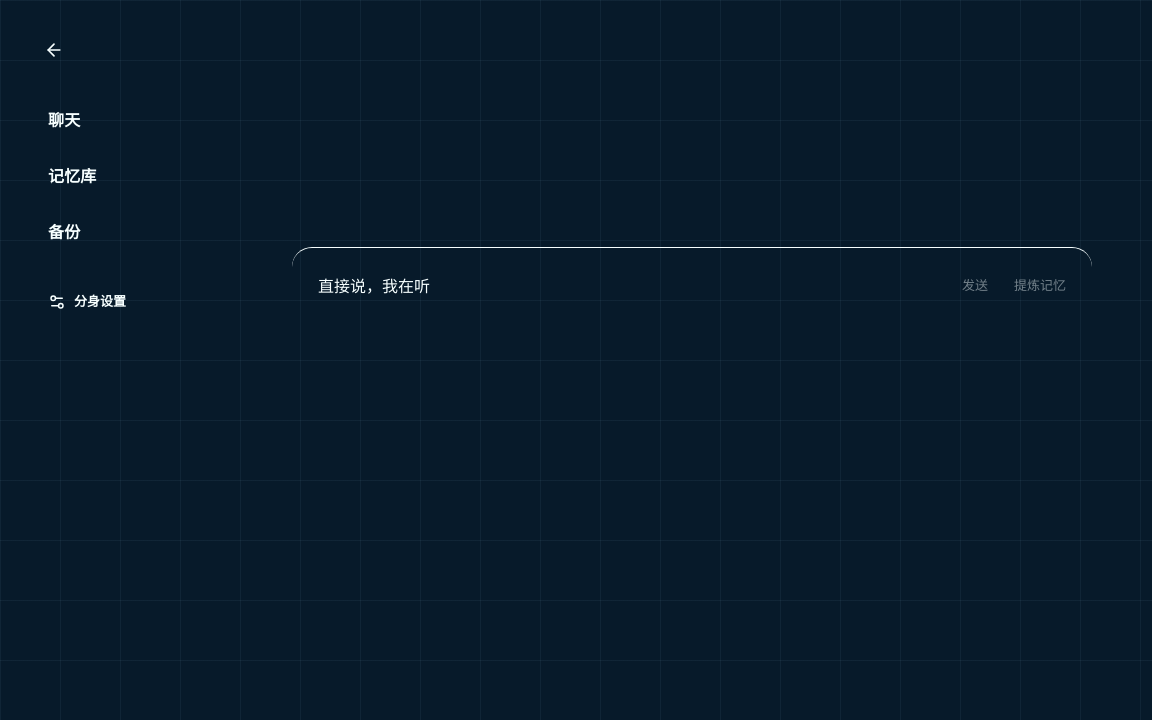
Scenario: AvatarChatPage › answers a greeting in general companion mode with a natural avatar reply
Type "你好" into the field named "对话内容". click: (627, 286)
box: [308,264,946,308]
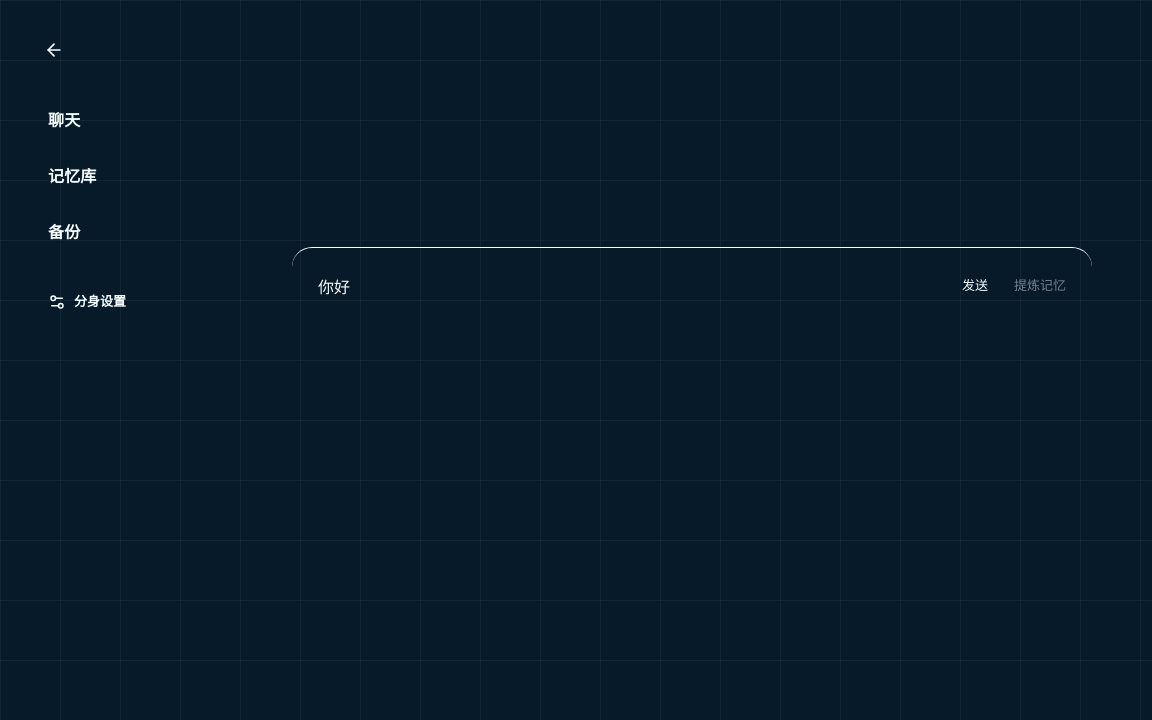
Click the button "发送". click: (975, 286)
box: [952,264,998,308]
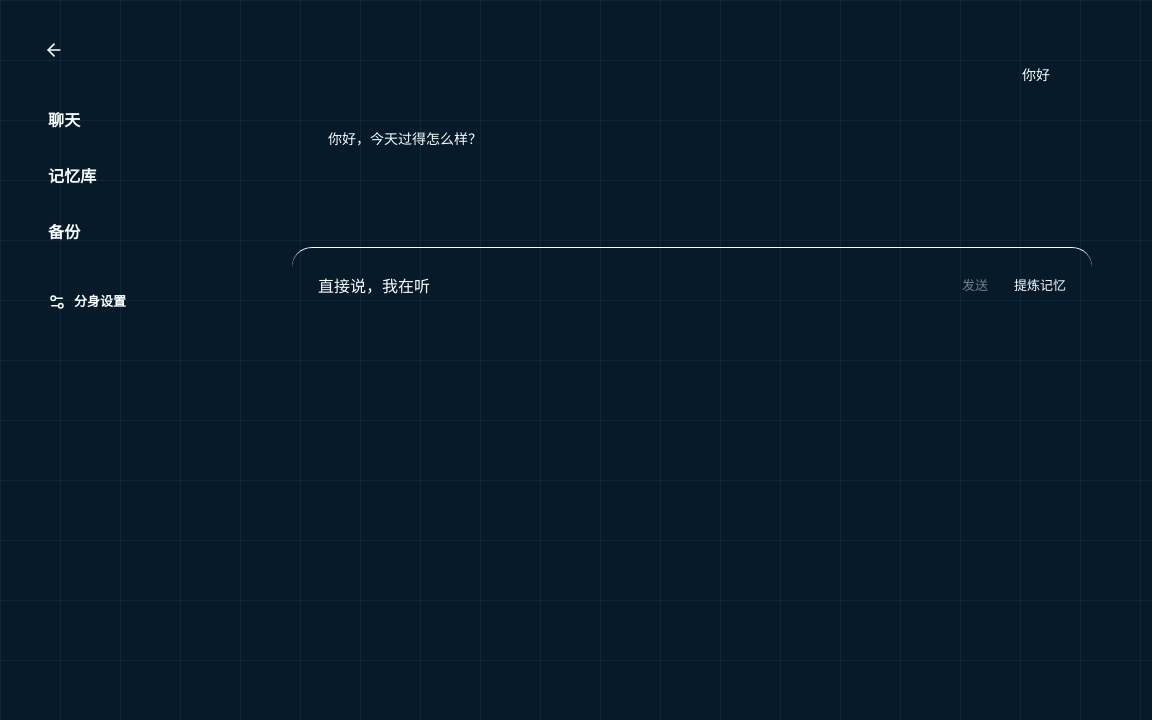
expect the text "你好，今天过得怎么样？" is shown: met, box [328,130,482,147]
